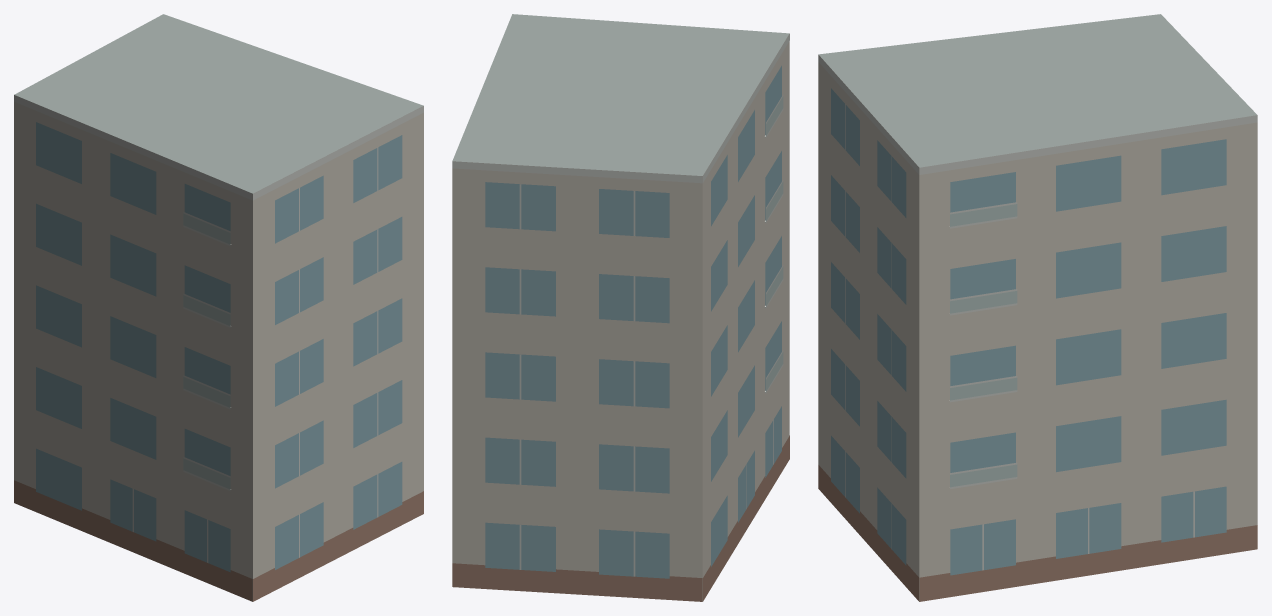
The model's file is survey-upis-32892589.glb.
3 views of the same model, side by side, from view 1: azimuth 30°, elevation 25°; view 2: azimuth 150°, elevation 25°; view 3: azimuth 270°, elevation 25° (orthographic). The views are drawn at different scales.
Parts seen in each view (by area): view 1: survey-upis-32892589.tmp; view 2: survey-upis-32892589.tmp; view 3: survey-upis-32892589.tmp.
Boxes of the visible parts, box(x1,y1,x2,y2) form: survey-upis-32892589.tmp: box(14, 14, 423, 601); survey-upis-32892589.tmp: box(452, 14, 789, 601); survey-upis-32892589.tmp: box(818, 14, 1257, 601).
Size of the model in its own units: 10.95 by 14.41 by 13.22.
